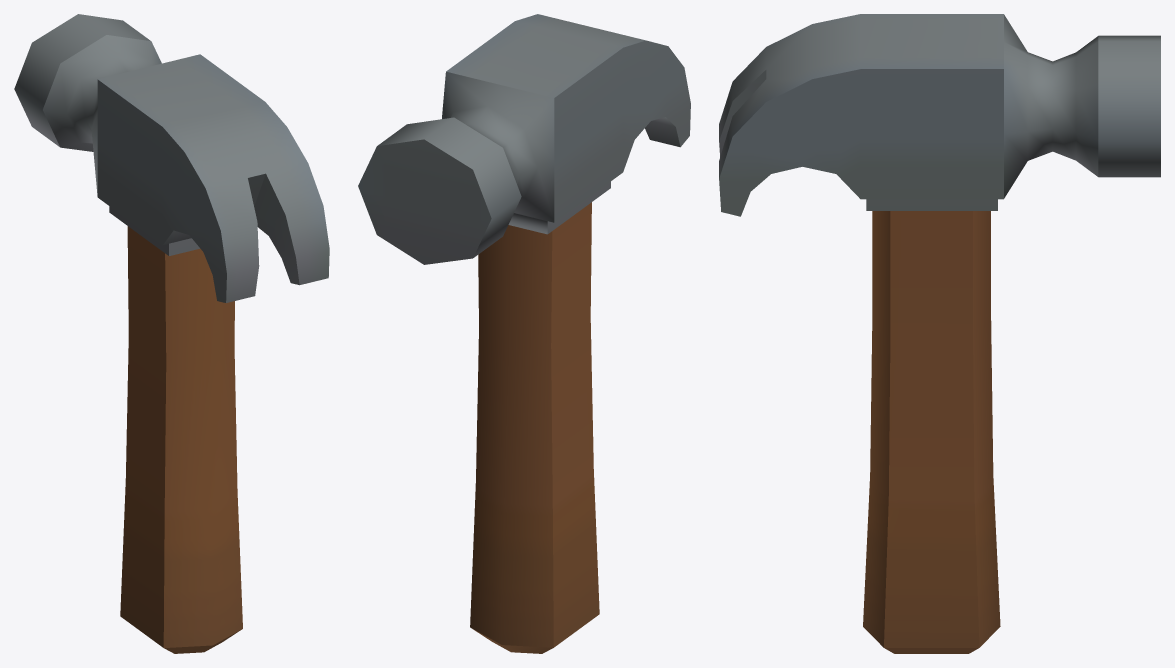
The model's file is MeleeWeaponAgent_HammerS.fbx.
The picture shows the model from 3 angles, left to right: view 1: azimuth 30°, elevation 25°; view 2: azimuth 150°, elevation 25°; view 3: azimuth 270°, elevation 25°; orthographic projection. The views are drawn at different scales.
Parts seen in each view (by area): view 1: Hammer01; view 2: Hammer01; view 3: Hammer01.
Part boxes in pixels (box(x1,y1,x2,y2)): Hammer01: box(14, 14, 329, 653); Hammer01: box(358, 14, 690, 653); Hammer01: box(719, 14, 1160, 653).
Bounding box in the file's own units: 0.1803 × 0.7421 × 0.4952.
